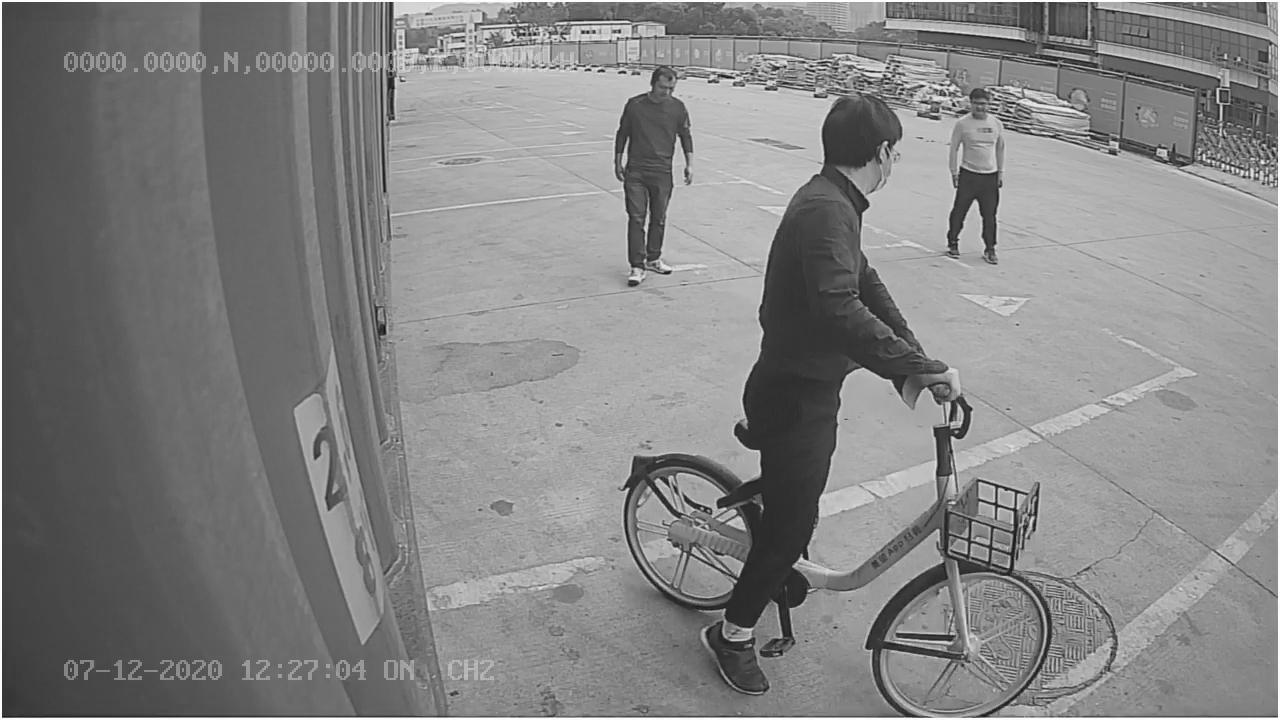person: (609, 58, 699, 289)
